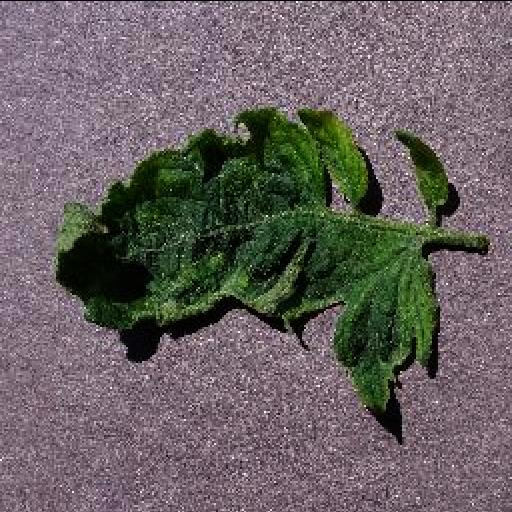Mosaic Virus: (53, 106, 439, 420)
